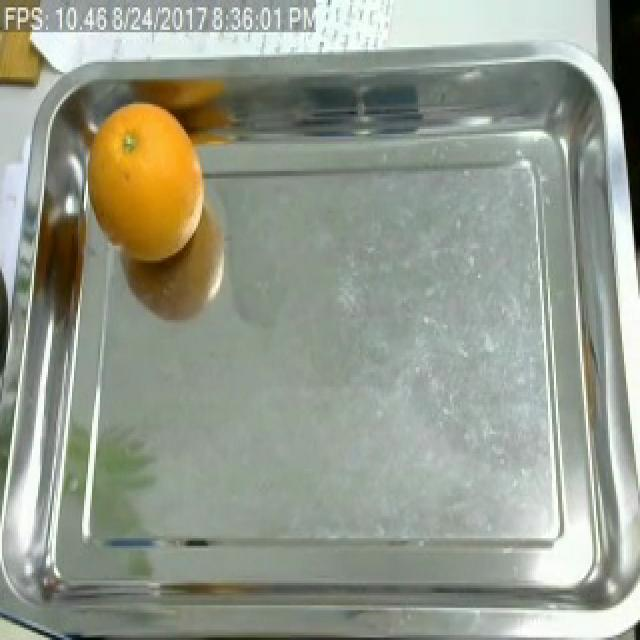Fruit: (80, 94, 212, 268), (0, 2, 52, 97)
